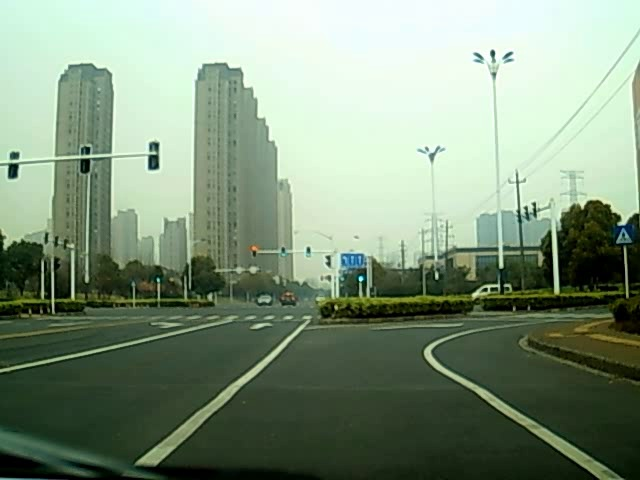Traffic_Light_go: (280, 245, 287, 260), (305, 247, 312, 258)
Traffic_Light_stop: (251, 244, 259, 259)
